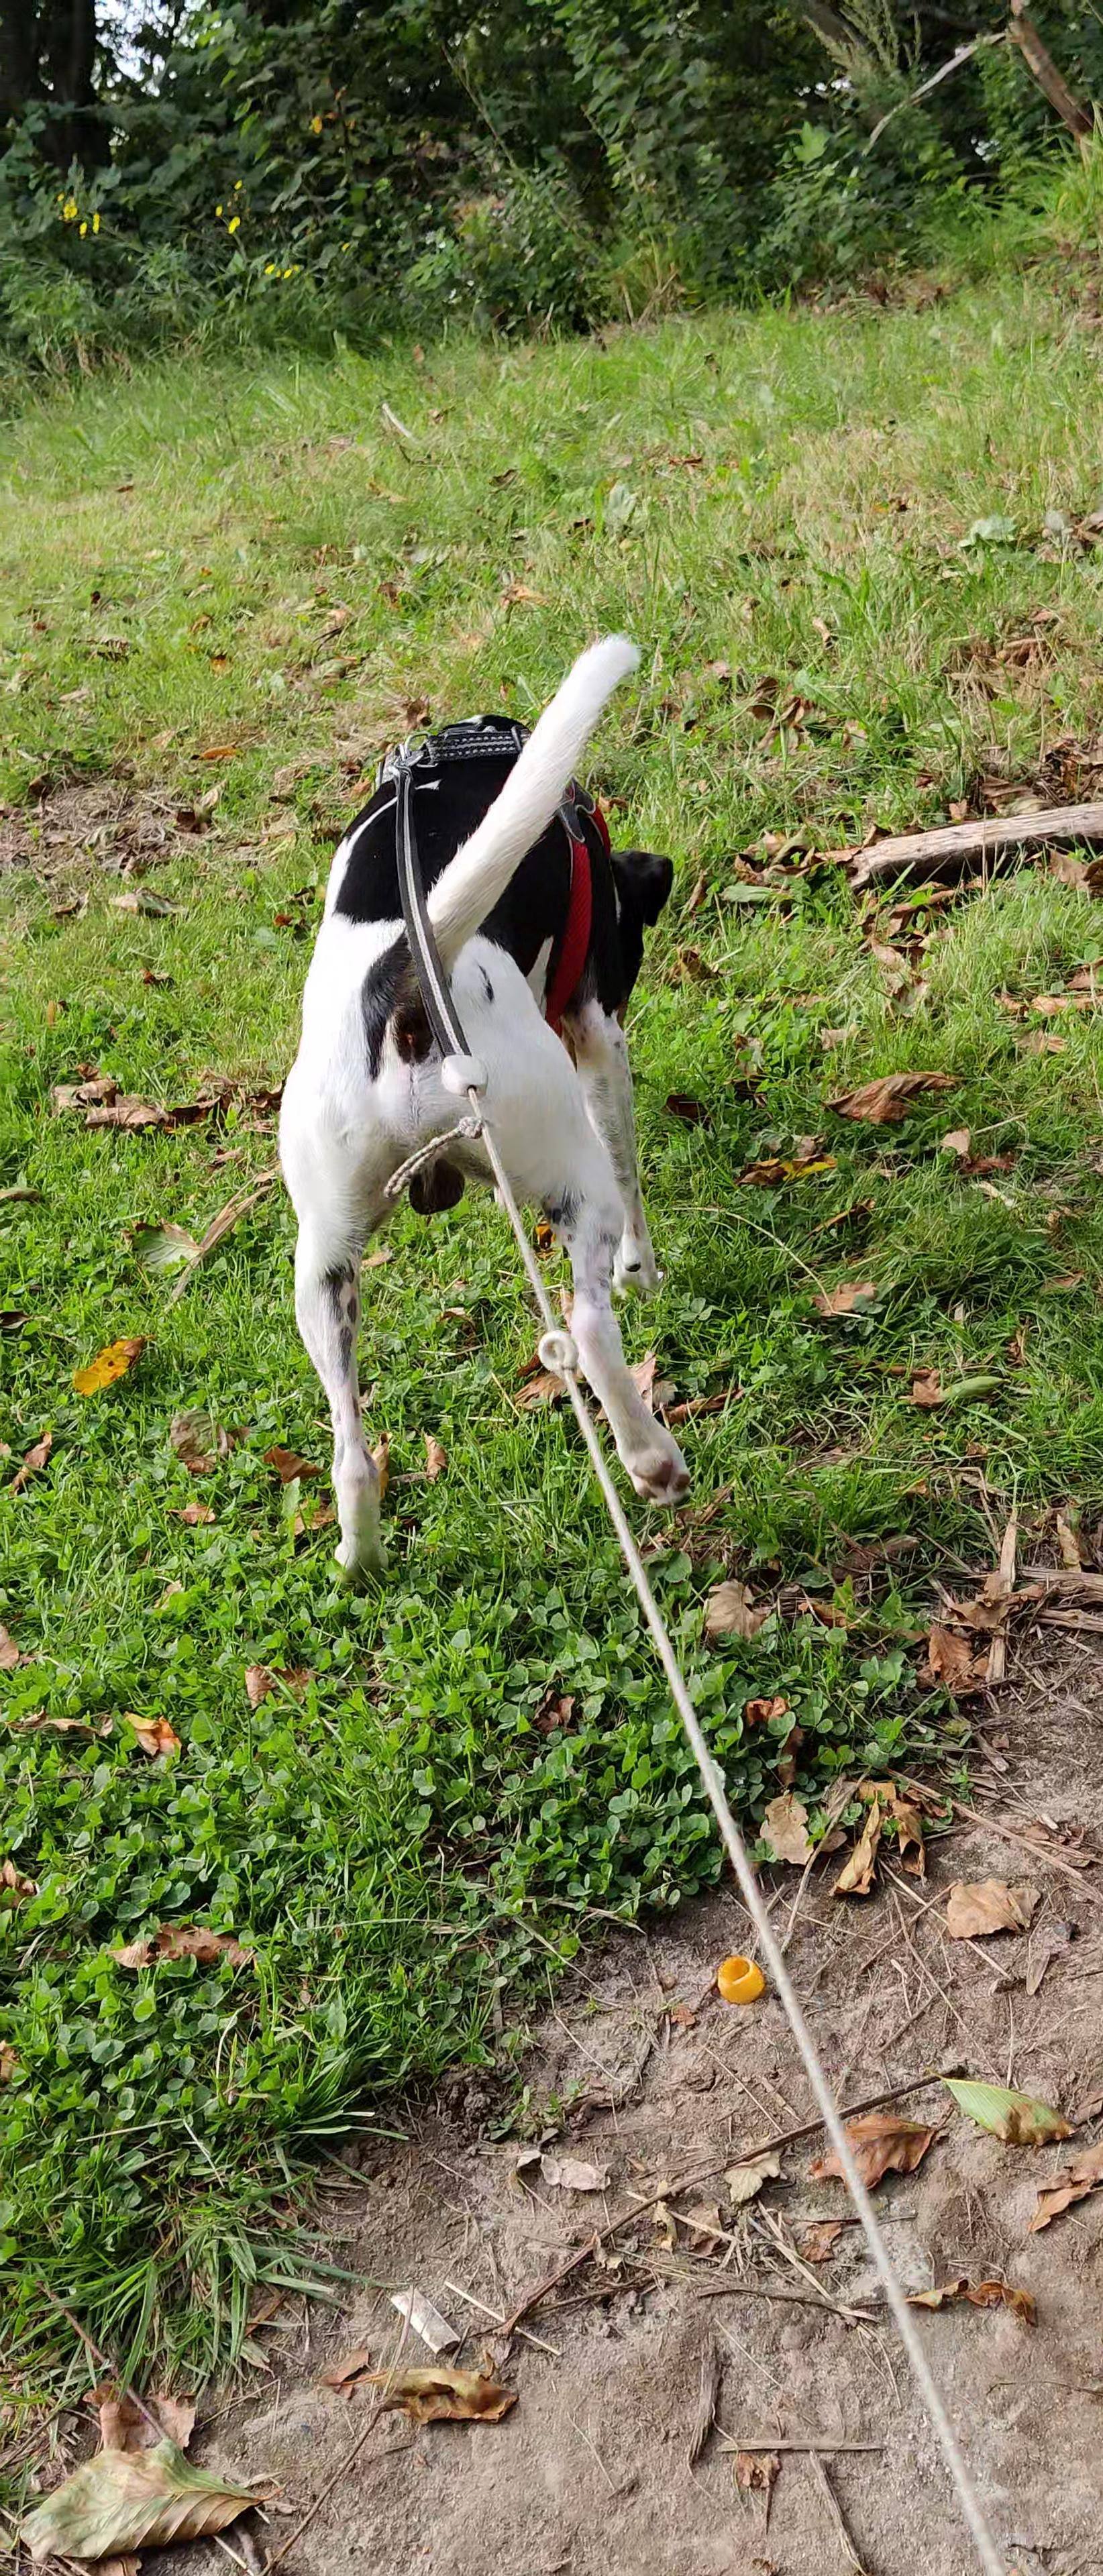Dog: (245, 613, 766, 1598)
